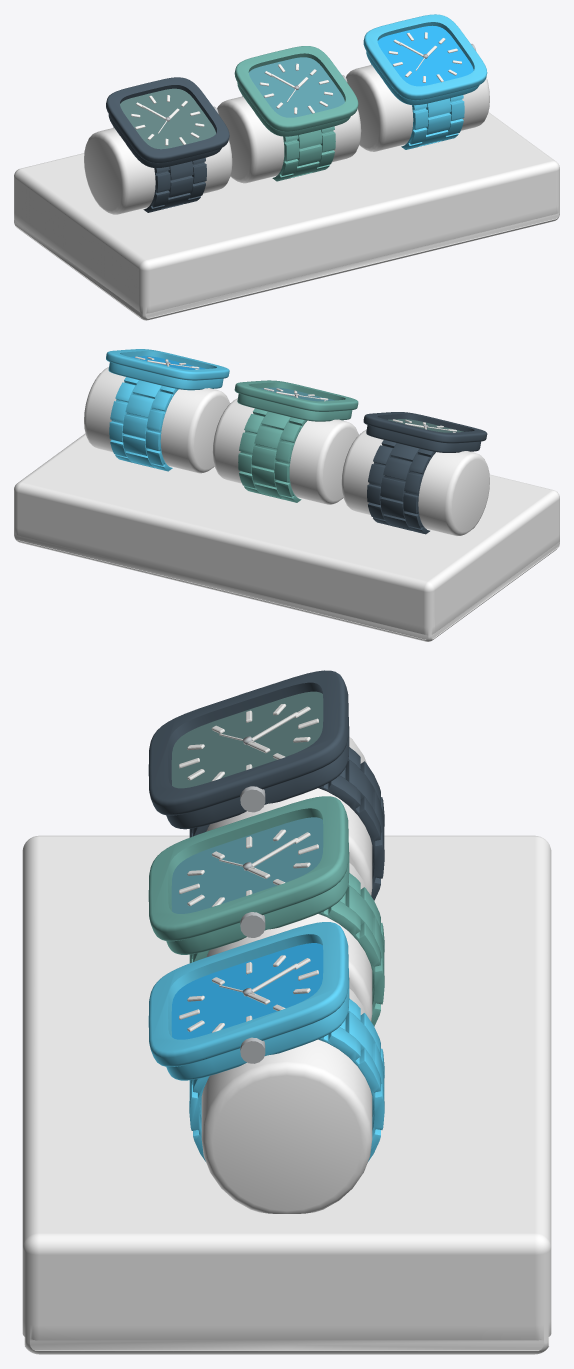
The model's file is REGINA_orologi.draco.glb.
3 renders of one model, top to bottom at view 1: azimuth 30°, elevation 25°; view 2: azimuth 150°, elevation 25°; view 3: azimuth 270°, elevation 25°, orthographic. The views are drawn at different scales.
Parts seen in each view (by area): view 1: plinto, corpo_gruppo, pezzo02, pezzo00, pezzo01; view 2: plinto, corpo_gruppo, pezzo02, pezzo01, pezzo00; view 3: plinto, corpo_gruppo, pezzo02, pezzo00, pezzo01.
Part boxes in pixels (x1=…): plinto: x1=14, y1=112, x2=559, y2=320; corpo_gruppo: x1=84, y1=65, x2=489, y2=214; pezzo02: x1=363, y1=14, x2=487, y2=149; pezzo00: x1=106, y1=77, x2=229, y2=212; pezzo01: x1=234, y1=46, x2=358, y2=181; plinto: x1=14, y1=433, x2=559, y2=641; corpo_gruppo: x1=84, y1=367, x2=489, y2=535; pezzo02: x1=106, y1=349, x2=229, y2=471; pezzo01: x1=234, y1=380, x2=358, y2=502; pezzo00: x1=363, y1=412, x2=487, y2=534; plinto: x1=22, y1=835, x2=551, y2=1354; corpo_gruppo: x1=201, y1=737, x2=372, y2=1213; pezzo02: x1=148, y1=922, x2=384, y2=1161; pezzo00: x1=148, y1=670, x2=384, y2=900; pezzo01: x1=148, y1=796, x2=384, y2=1026.
Bounding box in the file's own units: 0.176 × 0.0651 × 0.096.
